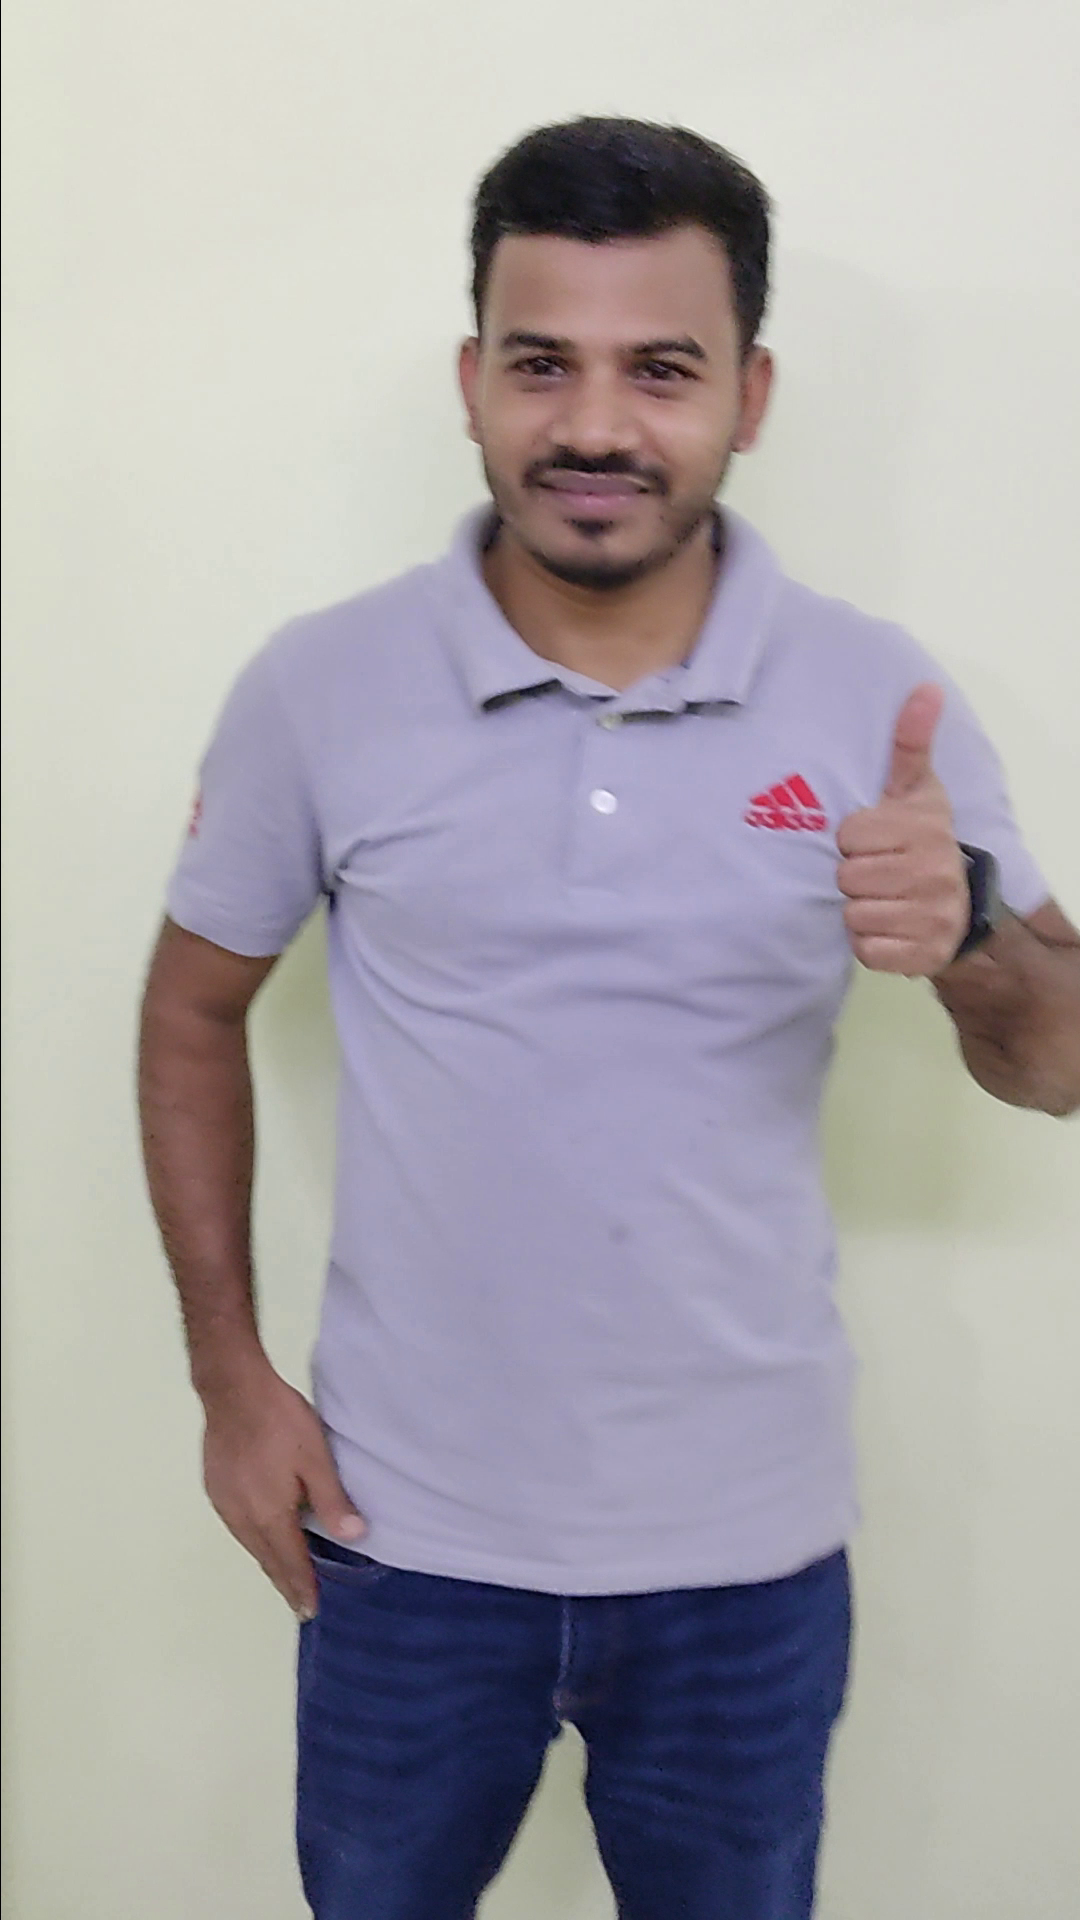Like: (800, 663, 1010, 989)
None: (173, 1342, 388, 1633)
